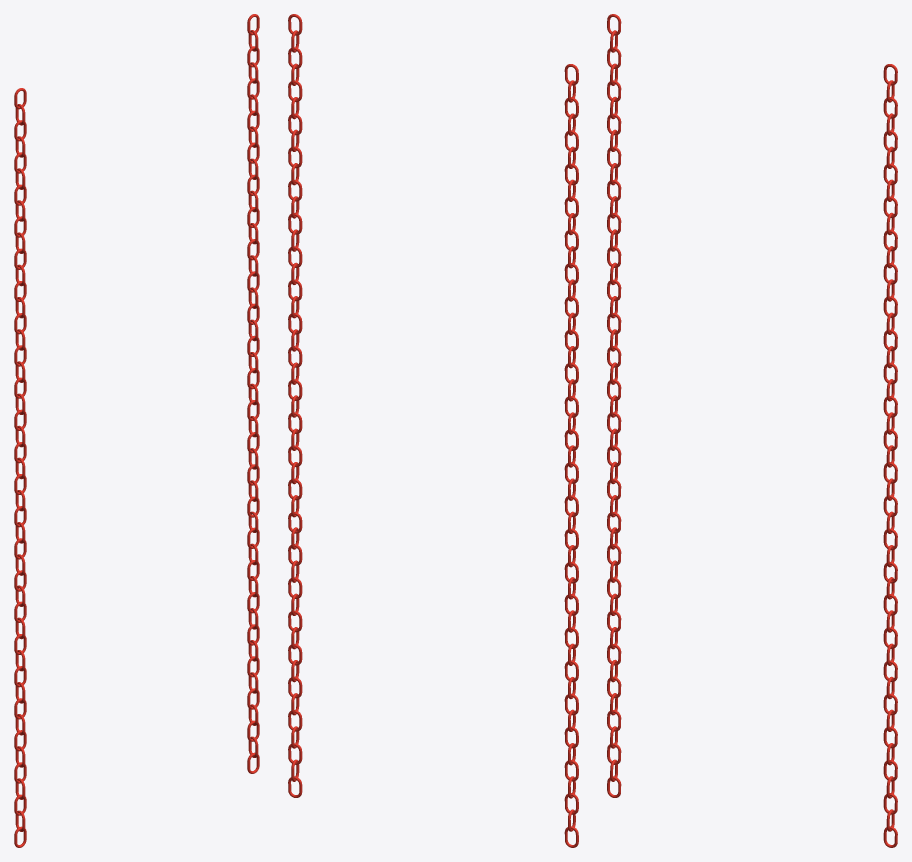
The model's file is MaterialCadena.fbx.
3 views of the same model, side by side, from view 1: azimuth 30°, elevation 25°; view 2: azimuth 150°, elevation 25°; view 3: azimuth 330°, elevation 25° (orthographic). The views are drawn at different scales.
Visible parts, largest first — view 1: materialcadena; view 2: materialcadena; view 3: materialcadena.
Boxes of the visible parts, x1,y1,x2,y2 form: materialcadena: (14,14,259,847); materialcadena: (288,14,578,847); materialcadena: (607,14,897,847).
Bounding box in the file's own units: 103 × 285 × 16.88.
